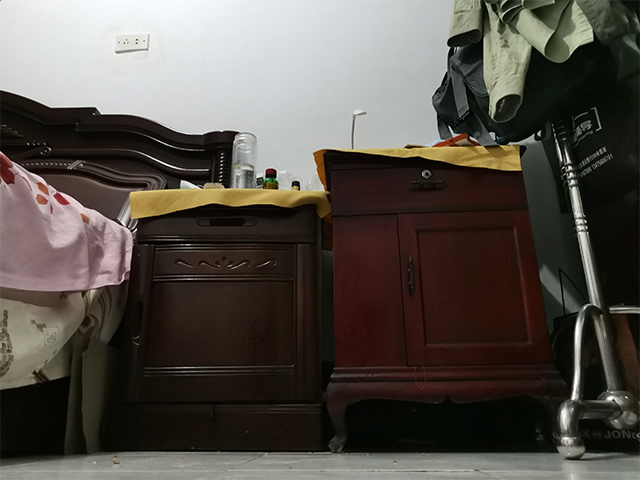bed: (1, 89, 248, 464)
cabinet: (312, 143, 573, 455), (99, 185, 332, 455)
